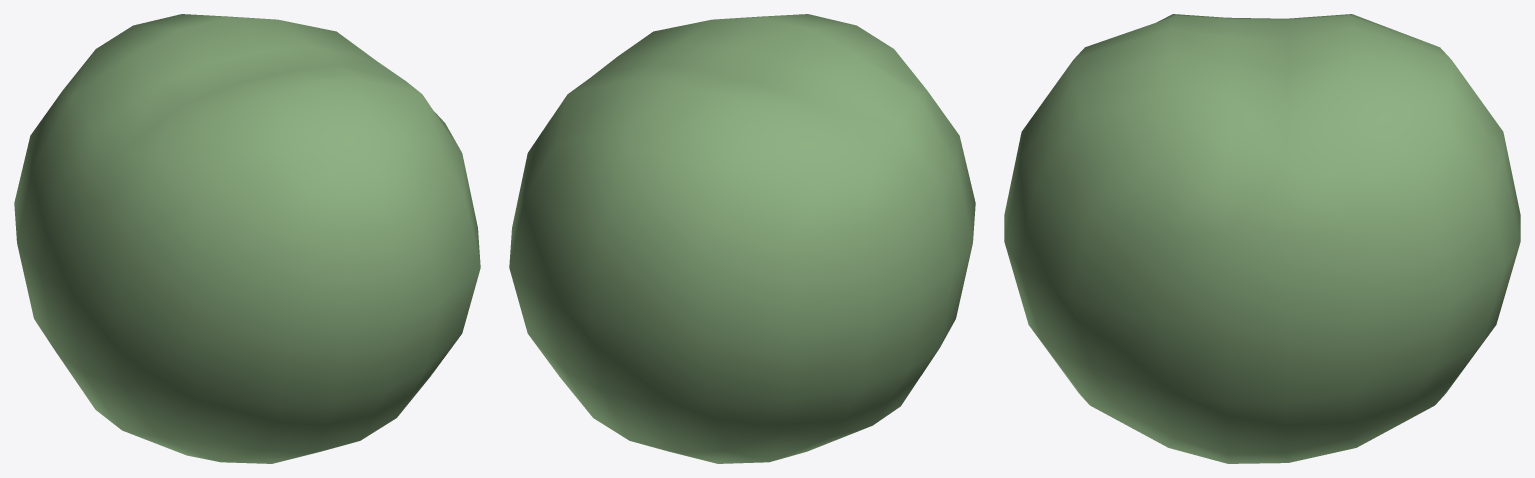
Rendered from cherry_single.fbx.
3 views of the same model, side by side, from view 1: azimuth 30°, elevation 25°; view 2: azimuth 150°, elevation 25°; view 3: azimuth 270°, elevation 25° (orthographic). The views are drawn at different scales.
Visible parts, largest first — view 1: pCube1; view 2: pCube1; view 3: pCube1.
Boxes of the visible parts, <box> form: pCube1: <box>14,14,480,463</box>; pCube1: <box>509,14,975,463</box>; pCube1: <box>1004,14,1520,463</box>.
Size of the model in its own units: 24.05 by 22.56 by 26.64.
